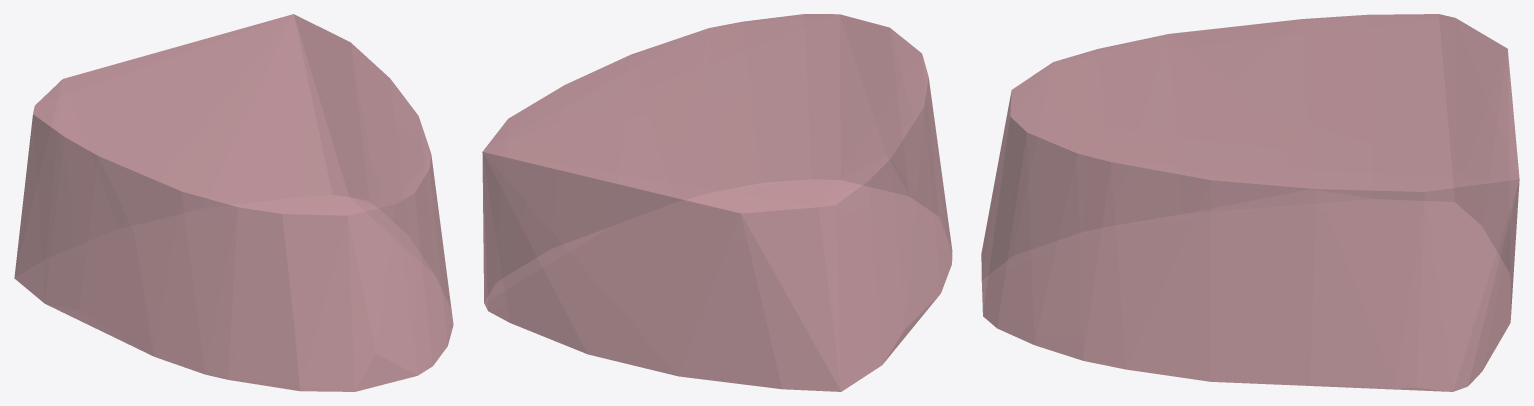
3 renders of one model, left to right at view 1: azimuth 30°, elevation 25°; view 2: azimuth 150°, elevation 25°; view 3: azimuth 270°, elevation 25°, orthographic. The views are drawn at different scales.
Visible parts, largest first — view 1: Shape_IndexedFaceSet.004_Shape_IndexedFaceSet.18157; view 2: Shape_IndexedFaceSet.004_Shape_IndexedFaceSet.18157; view 3: Shape_IndexedFaceSet.004_Shape_IndexedFaceSet.18157.
Boxes of the visible parts, bbox=[...] form: Shape_IndexedFaceSet.004_Shape_IndexedFaceSet.18157: bbox=[14, 14, 453, 391]; Shape_IndexedFaceSet.004_Shape_IndexedFaceSet.18157: bbox=[482, 14, 952, 391]; Shape_IndexedFaceSet.004_Shape_IndexedFaceSet.18157: bbox=[981, 14, 1519, 391].
Size of the model in its own units: 0.4715 by 0.2227 by 0.548.
